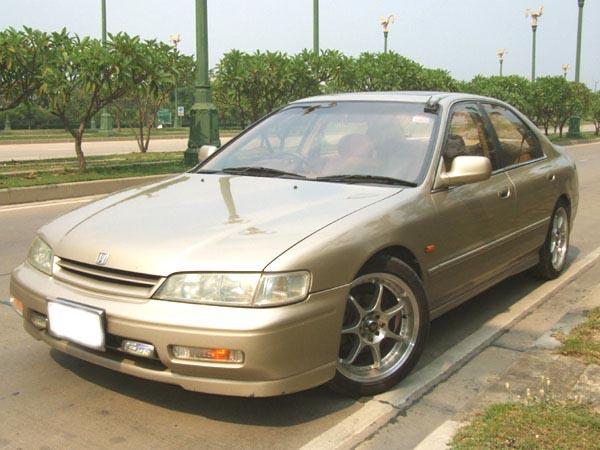sedan: (9, 89, 581, 398)
